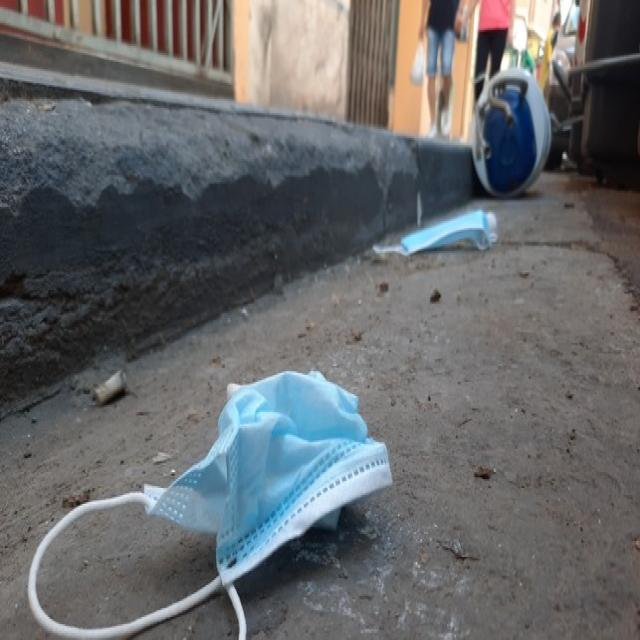non-organic waste: (32, 350, 393, 640), (379, 205, 504, 265)
